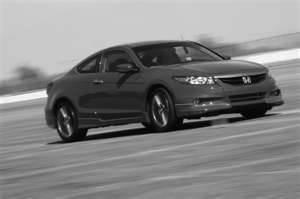car: (45, 41, 286, 141)
